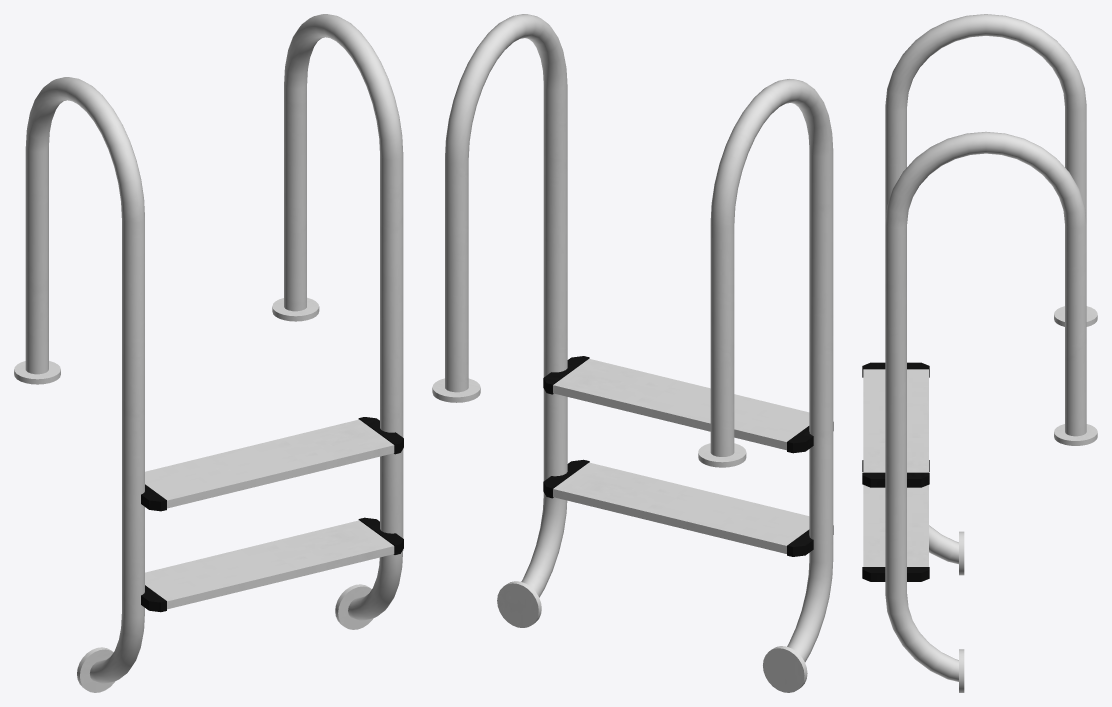
The model's file is ladder.glb.
The picture shows the model from 3 angles, left to right: view 1: azimuth 30°, elevation 25°; view 2: azimuth 150°, elevation 25°; view 3: azimuth 270°, elevation 25°; orthographic projection. The views are drawn at different scales.
Visible parts, largest first — view 1: PoolLadder3; view 2: PoolLadder3; view 3: PoolLadder3.
Part boxes in pixels (x1,y1,x2,y2): PoolLadder3: (14, 14, 403, 692); PoolLadder3: (432, 14, 833, 692); PoolLadder3: (862, 14, 1097, 692).
Size of the model in its own units: 0.5896 by 1.13 by 0.4305.
1 material, 1 textured.
